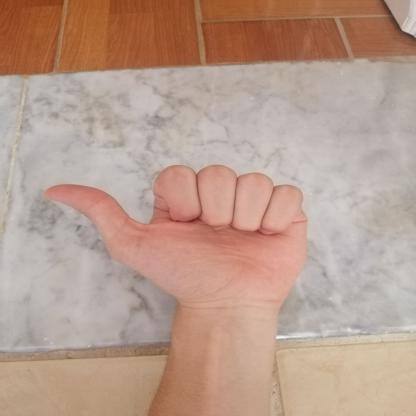DAD: (33, 154, 325, 319)
